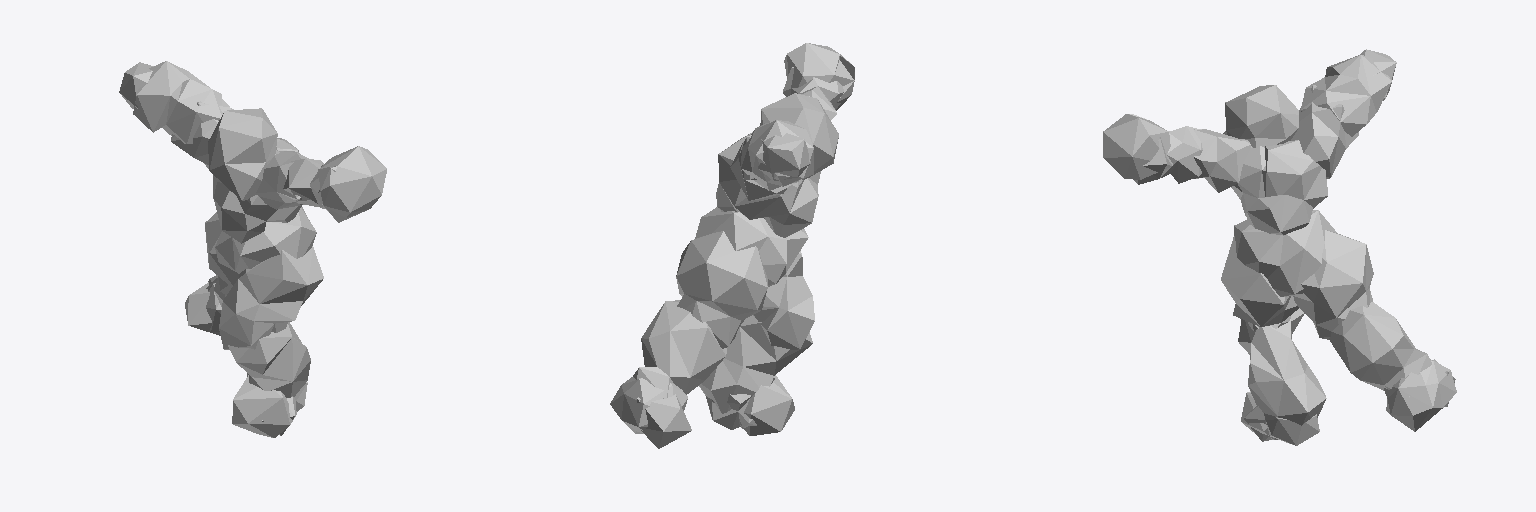
Rendered from dance_frames0359.obj.
3 renders of one model, left to right at view 1: azimuth 30°, elevation 25°; view 2: azimuth 150°, elevation 25°; view 3: azimuth 270°, elevation 25°, orthographic.
Parts seen in each view (by area): view 1: Beta_Surface; view 2: Beta_Surface; view 3: Beta_Surface.
Part boxes in pixels (bbox=[...]): Beta_Surface: bbox=[119, 61, 386, 437]; Beta_Surface: bbox=[610, 43, 854, 448]; Beta_Surface: bbox=[1103, 49, 1456, 445].
Bounding box in the file's own units: 1.01 × 2.03 × 1.84.